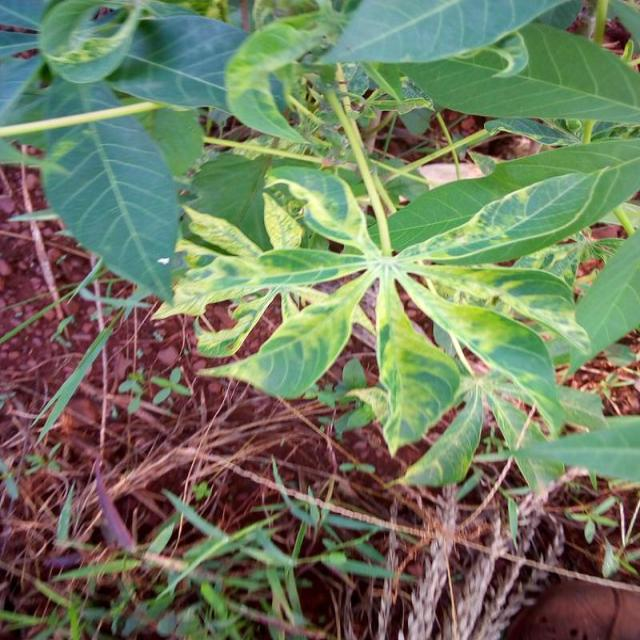cassava leaf: (1, 1, 638, 518), (38, 78, 180, 304)
